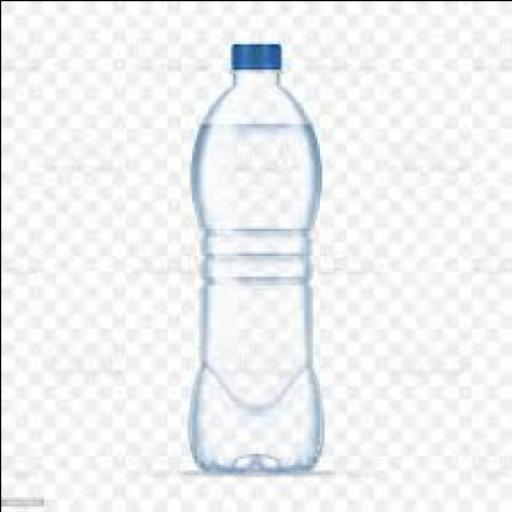plastic: (187, 40, 323, 472), (228, 42, 277, 68)
